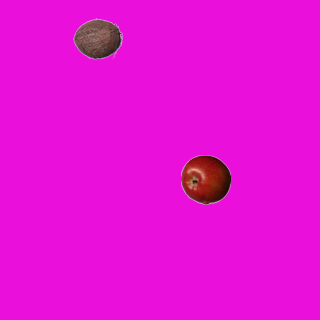Apple Braeburn: (180, 154, 230, 204)
Cocos: (72, 13, 122, 63)
